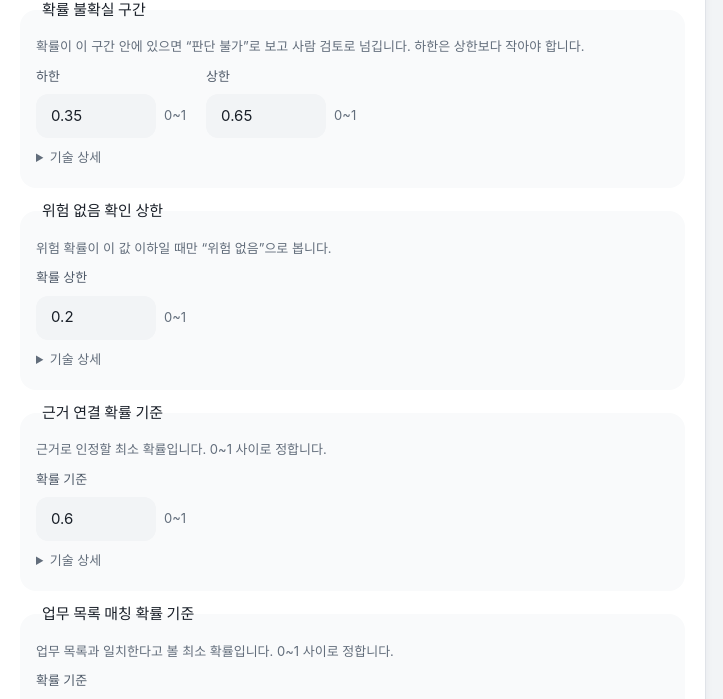
Test: Policy page › field form › explains why 게시 is disabled and blocks it while a number field is not a number
(page scrolled)
Clear the number field labelled "확률 상한". click: (96,318)
box: [36,296,156,340]
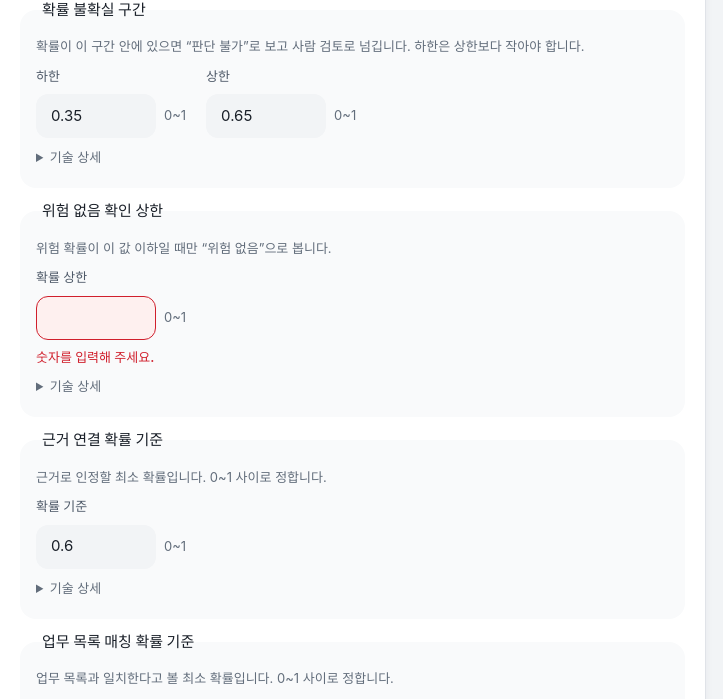
Expected: the text "숫자를 입력해 주세요." is shown, [36,348,154,364]
Type "0.3" into the number field labelled "확률 상한". click: (96,318)
box: [36,296,156,340]
(page scrolled)
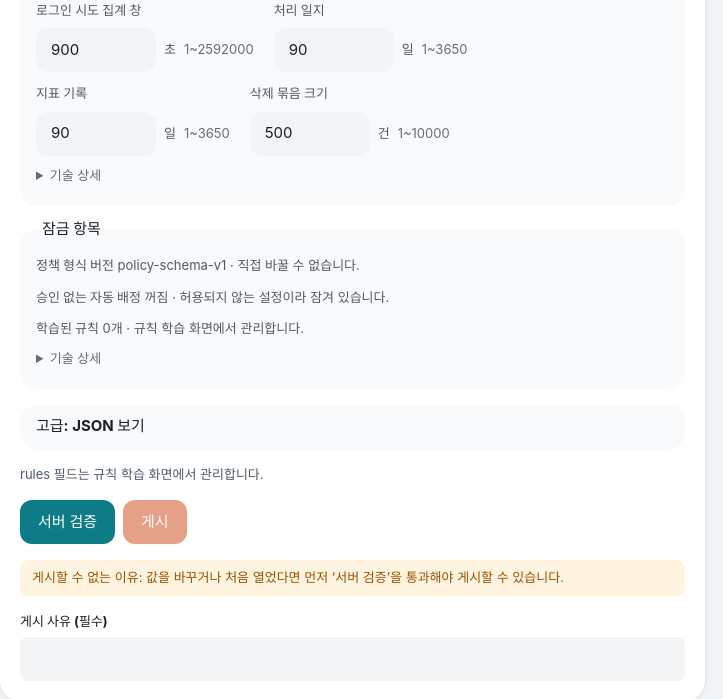
Click the button "서버 검증". click: (68,522)
box: [20,500,115,544]
(page scrolled)
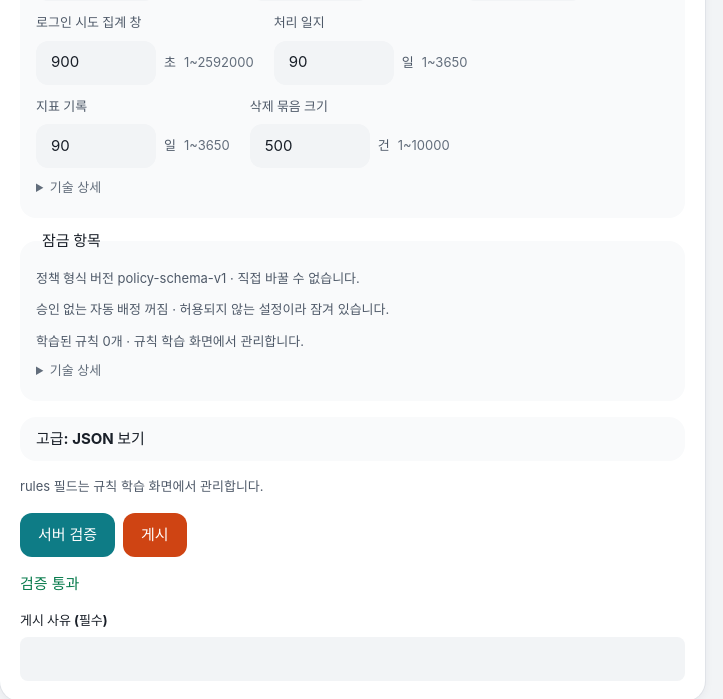
Expected: the button "게시" is enabled, [123,512,187,556]
Expected: the text "게시할 수 없는 이유" is gone
